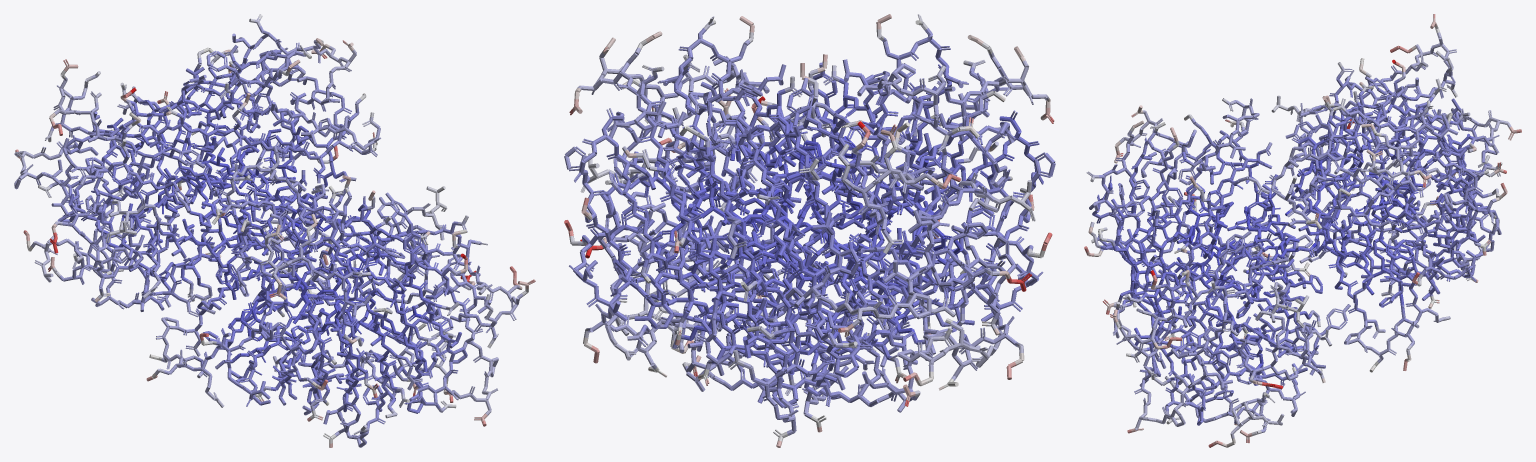
Rendered from 1gfl__sticks__b-factor.glb.
The picture shows the model from 3 angles, left to right: view 1: azimuth 30°, elevation 25°; view 2: azimuth 150°, elevation 25°; view 3: azimuth 270°, elevation 25°; orthographic projection. The views are drawn at different scales.
Parts seen in each view (by area): view 1: Renderer Node; view 2: Renderer Node; view 3: Renderer Node.
Boxes of the visible parts, x1,y1,x2,y2 form: Renderer Node: (14, 14, 535, 447); Renderer Node: (564, 14, 1055, 447); Renderer Node: (1084, 14, 1521, 447).
Bounding box in the file's own units: 61.4 × 53.8 × 63.05.
